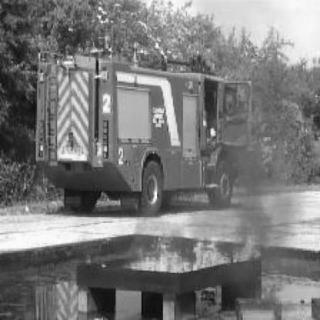Fire: (134, 230, 260, 273)
